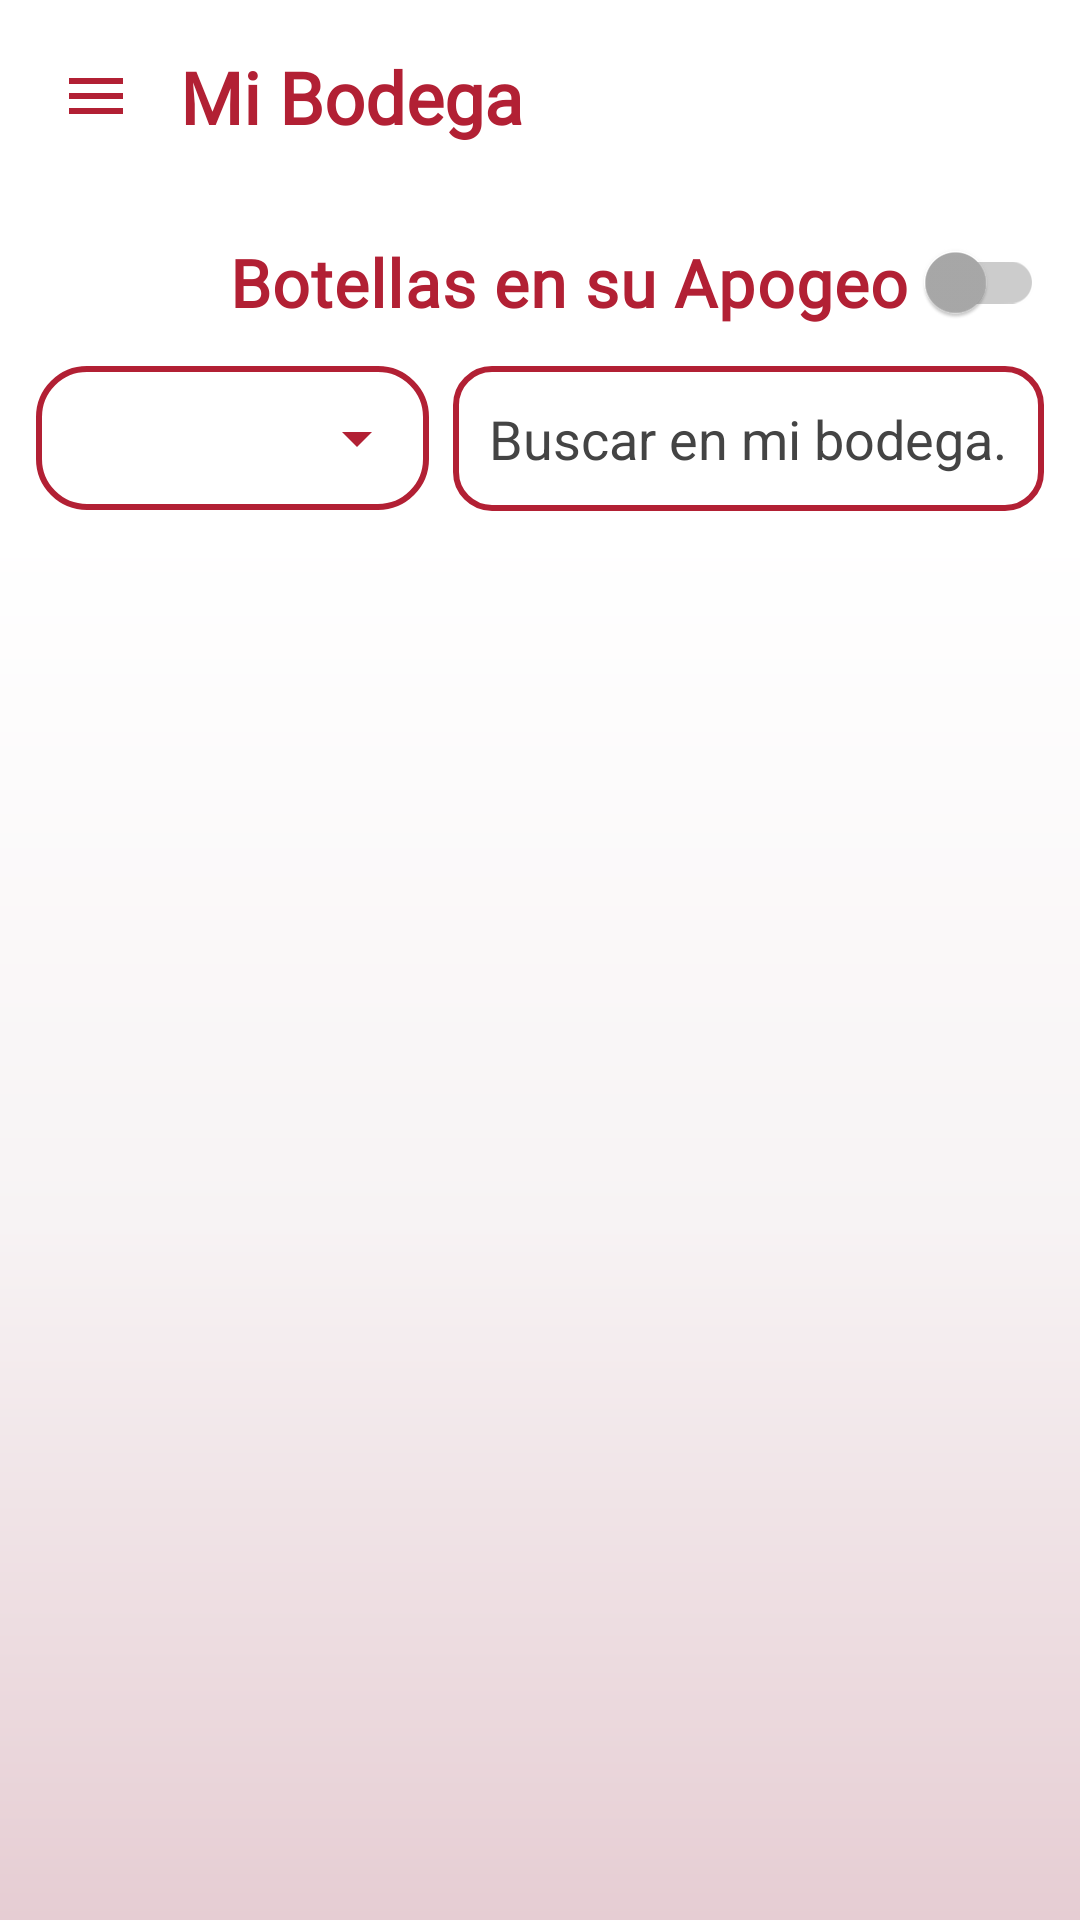

Named icons in this screenshot (1080 x 1920) and their bounding boxes, (x1, y1, x2, y2):
Abrir menú: (69, 78, 123, 114)
